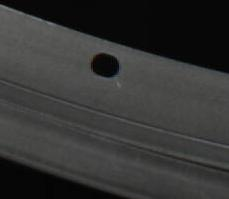holes: (89, 51, 120, 79)
